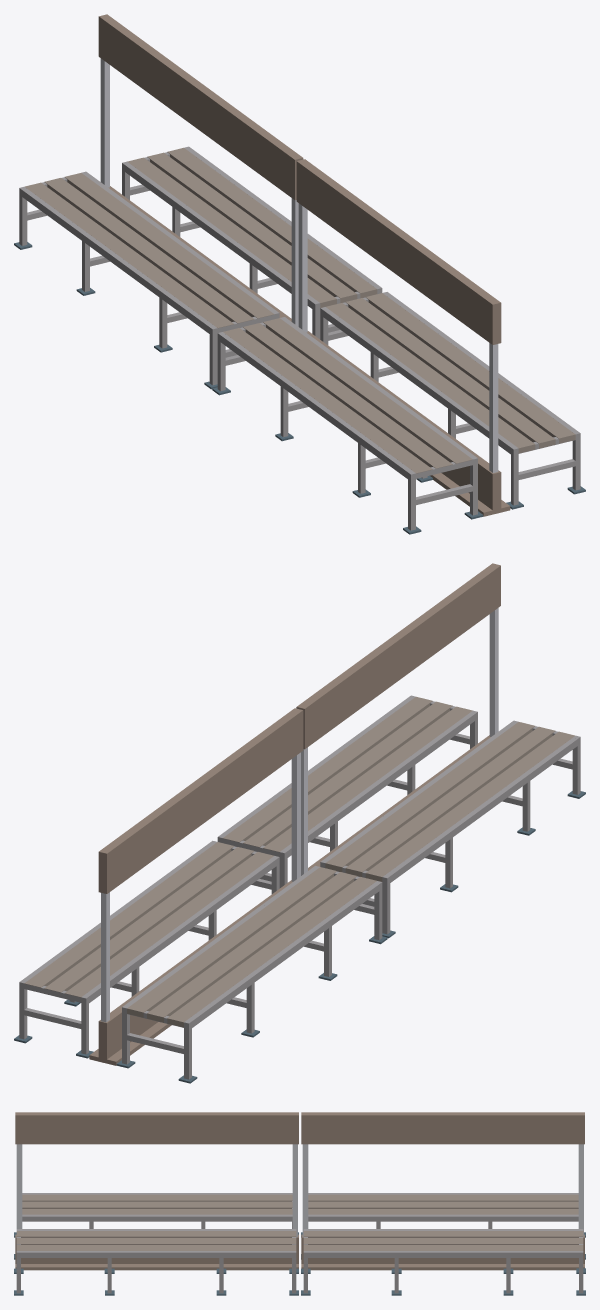
Rendered from locker_room_bench_1369.glb.
3 renders of one model, top to bottom at view 1: azimuth 30°, elevation 25°; view 2: azimuth 150°, elevation 25°; view 3: azimuth 270°, elevation 25°, orthographic. The views are drawn at different scales.
Parts seen in each view (by area): view 1: part_1371, part_1587, part_1403, part_1619, part_1623, part_1407, part_1477, part_1475, part_1547, part_1545, part_1405, part_1621 (+17 smaller); view 2: part_1587, part_1371, part_1619, part_1403, part_1407, part_1623, part_1547, part_1545, part_1477, part_1475, part_1405, part_1621 (+16 smaller); view 3: part_1587, part_1371, part_1623, part_1621, part_1407, part_1405, part_1624, part_1408, part_1477, part_1547, part_1543, part_1473 (+18 smaller).
Boxes of the visible parts, x1=… form: part_1371: x1=296, y1=159, x2=501, y2=344; part_1587: x1=98, y1=14, x2=303, y2=200; part_1403: x1=263, y1=318, x2=472, y2=463; part_1619: x1=65, y1=173, x2=274, y2=318; part_1623: x1=44, y1=178, x2=254, y2=323; part_1407: x1=243, y1=323, x2=452, y2=468; part_1477: x1=345, y1=298, x2=555, y2=448; part_1475: x1=365, y1=293, x2=575, y2=443; part_1547: x1=147, y1=152, x2=357, y2=302; part_1545: x1=167, y1=147, x2=377, y2=298; part_1405: x1=223, y1=328, x2=432, y2=473; part_1621: x1=25, y1=182, x2=233, y2=328; part_1587: x1=98, y1=708, x2=303, y2=893; part_1371: x1=296, y1=563, x2=500, y2=749; part_1619: x1=127, y1=867, x2=336, y2=1017; part_1403: x1=325, y1=722, x2=534, y2=871; part_1407: x1=345, y1=726, x2=555, y2=876; part_1623: x1=147, y1=872, x2=356, y2=1022; part_1547: x1=44, y1=847, x2=253, y2=992; part_1545: x1=24, y1=842, x2=234, y2=987; part_1477: x1=243, y1=701, x2=452, y2=847; part_1475: x1=222, y1=696, x2=432, y2=842; part_1405: x1=365, y1=731, x2=574, y2=881; part_1621: x1=167, y1=877, x2=376, y2=1027; part_1587: x1=301, y1=1112, x2=584, y2=1144; part_1371: x1=15, y1=1112, x2=298, y2=1144; part_1623: x1=308, y1=1201, x2=578, y2=1208; part_1621: x1=308, y1=1194, x2=578, y2=1201; part_1407: x1=22, y1=1201, x2=292, y2=1208; part_1405: x1=22, y1=1194, x2=292, y2=1201; part_1624: x1=308, y1=1214, x2=578, y2=1221; part_1408: x1=22, y1=1214, x2=292, y2=1221; part_1477: x1=16, y1=1238, x2=296, y2=1244; part_1547: x1=303, y1=1238, x2=583, y2=1244; part_1543: x1=303, y1=1231, x2=583, y2=1237; part_1473: x1=16, y1=1231, x2=296, y2=1237.
Bounding box in the file's own units: 5.27 × 5.99 × 20.47.
